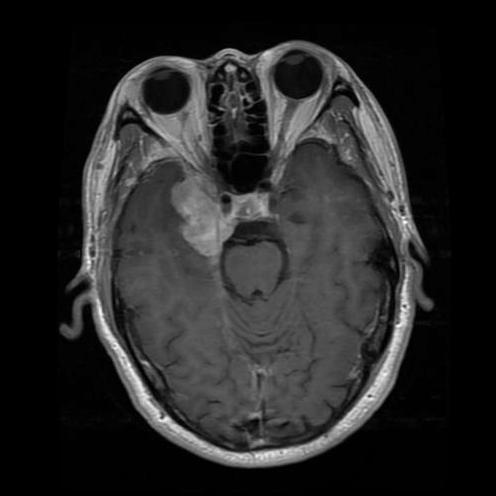Tumour-Meningioma: (202, 205, 312, 319)
